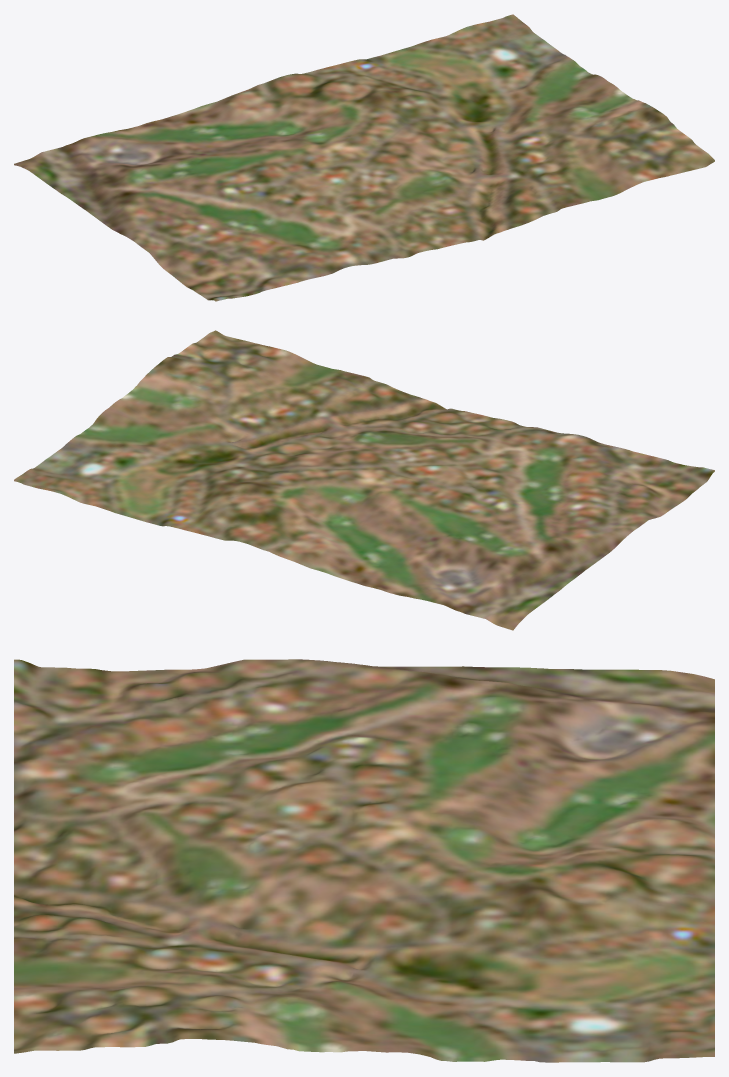
Rendered from terrain_r7_c1.glb.
The picture shows the model from 3 angles, top to bottom: view 1: azimuth 30°, elevation 25°; view 2: azimuth 150°, elevation 25°; view 3: azimuth 270°, elevation 25°; orthographic projection. The views are drawn at different scales.
Visible parts, largest first — view 1: terrain_r7_c1_lod0; view 2: terrain_r7_c1_lod0; view 3: terrain_r7_c1_lod0.
Part boxes in pixels (<box>): terrain_r7_c1_lod0: <box>14,14,714,301</box>; terrain_r7_c1_lod0: <box>14,330,714,630</box>; terrain_r7_c1_lod0: <box>14,659,714,1062</box>.
Size of the model in its own units: 1125 by 85.22 by 787.
1 material, 1 textured.
